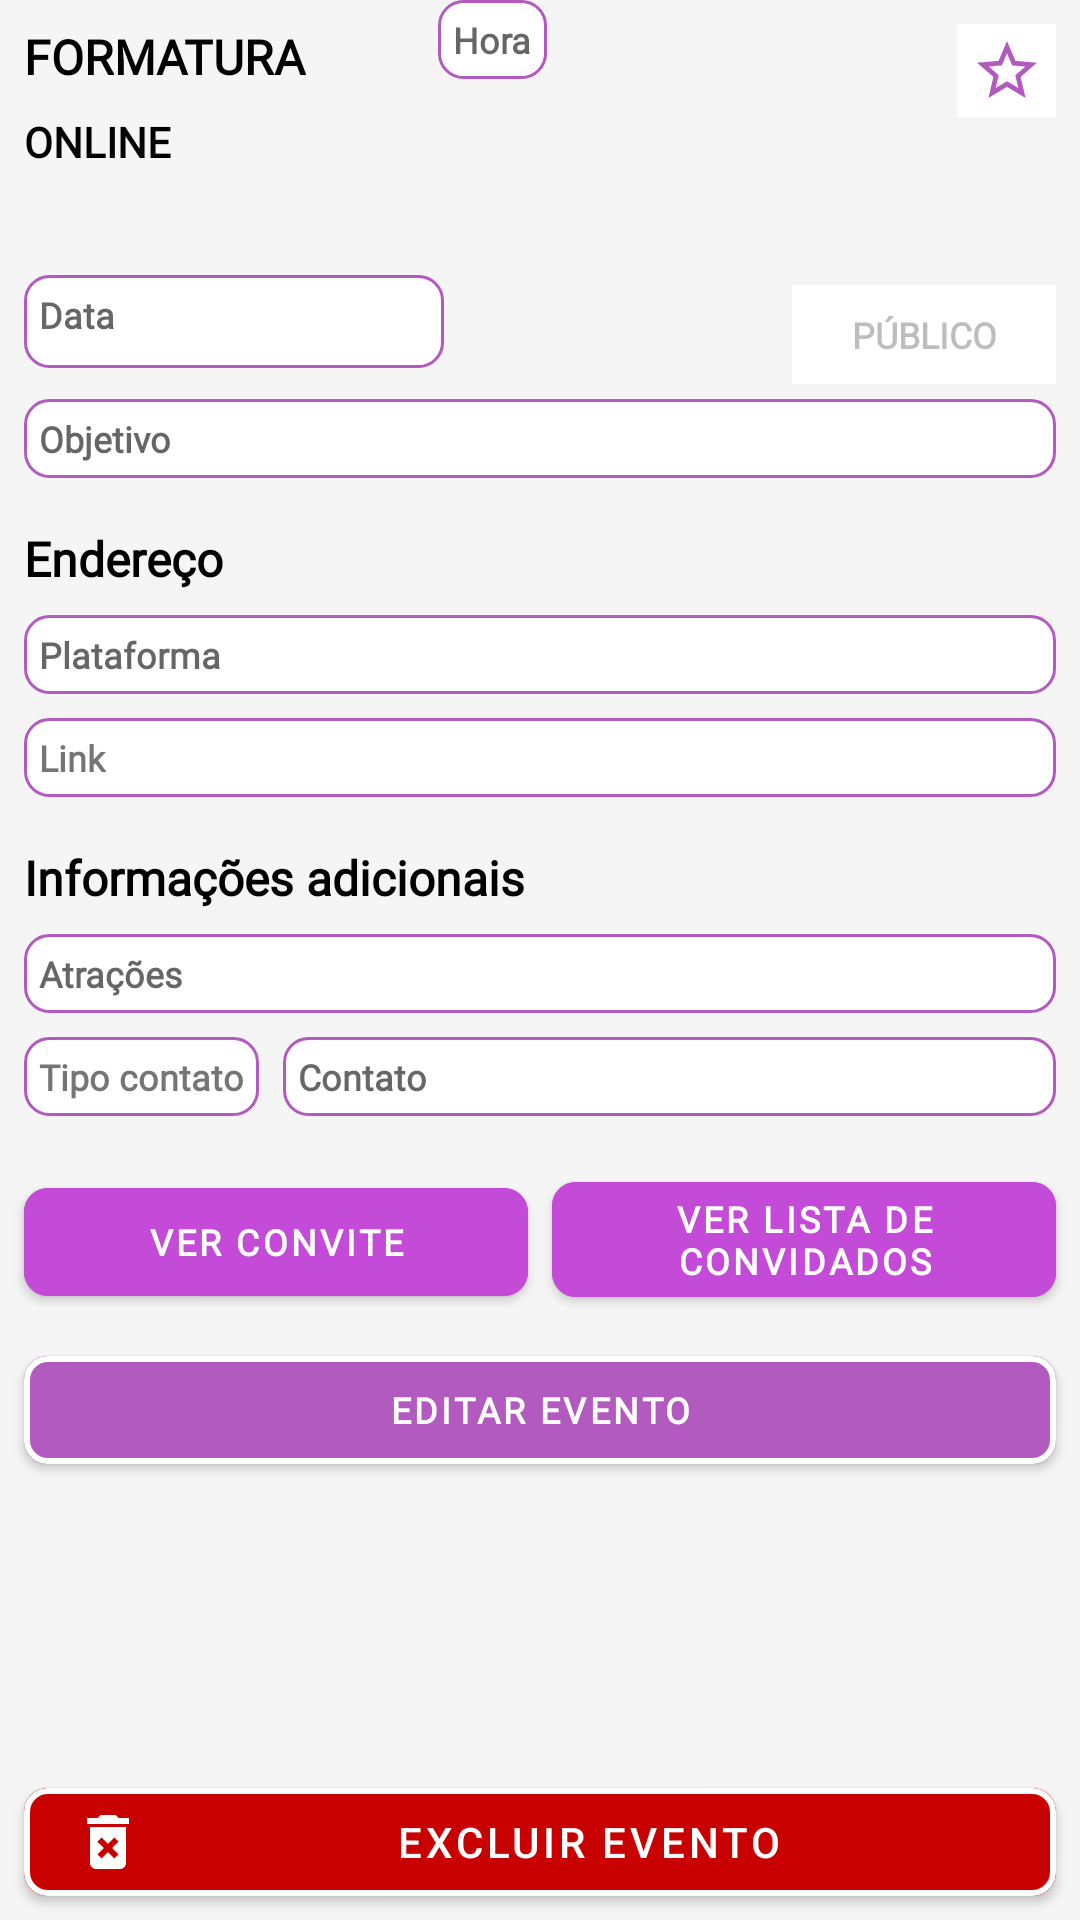

Named icons in this screenshot (1080px x 1920px) and their bounding boxes, (x1, y1, x2, y2):
star border: (957, 24, 1056, 117)
